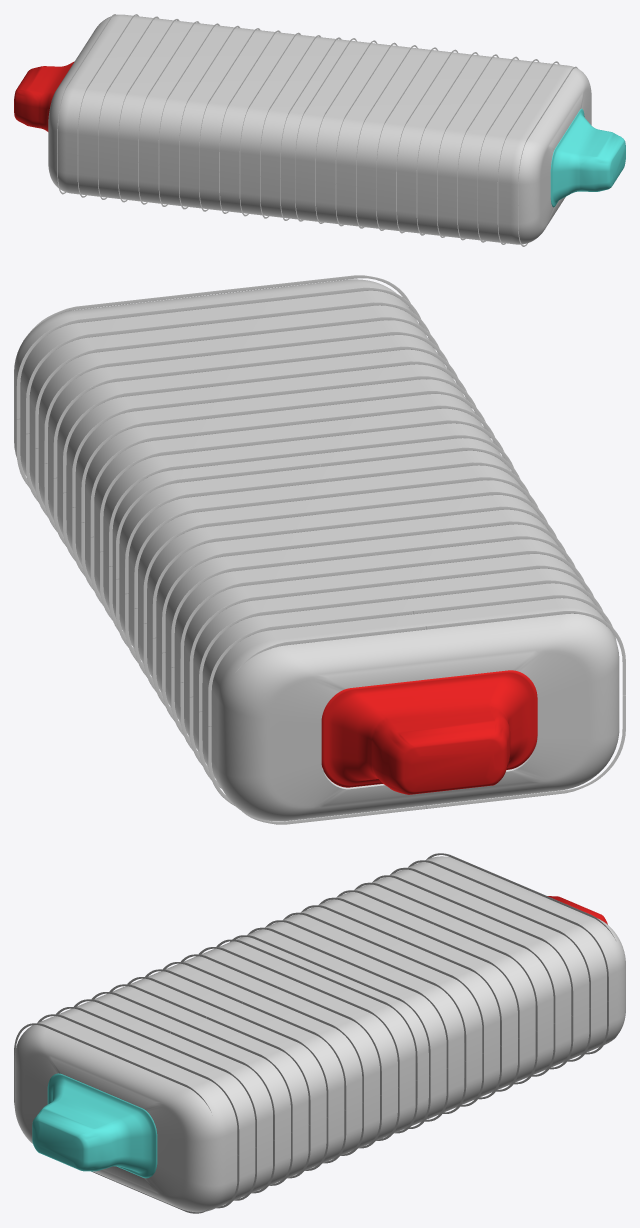
Rendered from mapv2.fbx.
The picture shows the model from 3 angles, top to bottom: view 1: azimuth 30°, elevation 25°; view 2: azimuth 150°, elevation 25°; view 3: azimuth 270°, elevation 25°; orthographic projection. The views are drawn at different scales.
Parts seen in each view (by area): view 1: Cube, Cube.001, Cube.002, Cylinder.020, Cylinder.016; view 2: Cube, Cube.002, Cylinder.017, Cylinder.016, Cylinder.014, Cylinder.020, Cylinder.024, Cylinder.028, Cylinder.004, Cylinder.015, Cylinder.006, Cylinder.001 (+14 smaller); view 3: Cube, Cube.001, Cylinder.006, Cylinder.001, Cylinder.024, Cylinder.018, Cylinder.028, Cylinder.013, Cylinder.014, Cylinder.022, Cylinder.023, Cylinder.002 (+14 smaller).
Boxes of the visible parts, left/top/right/bottom form: Cube: left=48, top=14, right=591, bottom=244; Cube.001: left=550, top=108, right=625, bottom=207; Cube.002: left=14, top=61, right=74, bottom=131; Cylinder.020: left=335, top=42, right=397, bottom=226; Cylinder.016: left=77, top=14, right=138, bottom=197; Cube: left=14, top=279, right=619, bottom=821; Cube.002: left=321, top=670, right=537, bottom=794; Cylinder.017: left=235, top=610, right=625, bottom=824; Cylinder.016: left=208, top=595, right=616, bottom=805; Cylinder.014: left=189, top=565, right=595, bottom=769; Cylinder.020: left=90, top=405, right=496, bottom=610; Cylinder.024: left=53, top=346, right=459, bottom=551; Cylinder.028: left=16, top=287, right=422, bottom=492; Cylinder.004: left=152, top=506, right=558, bottom=711; Cylinder.015: left=199, top=580, right=605, bottom=788; Cylinder.006: left=171, top=536, right=577, bottom=740; Cylinder.001: left=125, top=462, right=531, bottom=667; Cube: left=14, top=856, right=625, bottom=1212; Cube.001: left=32, top=1073, right=157, bottom=1178; Cylinder.006: left=336, top=890, right=537, bottom=1084; Cylinder.001: left=247, top=927, right=448, bottom=1121; Cylinder.024: left=109, top=984, right=310, bottom=1178; Cylinder.018: left=216, top=939, right=417, bottom=1133; Cylinder.028: left=37, top=1014, right=239, bottom=1208; Cylinder.013: left=354, top=882, right=555, bottom=1076; Cylinder.014: left=372, top=875, right=573, bottom=1069; Cylinder.022: left=145, top=969, right=346, bottom=1163; Cylinder.023: left=127, top=977, right=328, bottom=1170; Cylinder.002: left=265, top=920, right=466, bottom=1113.
Bounding box in the file's own units: 170 × 40.21 × 170.
